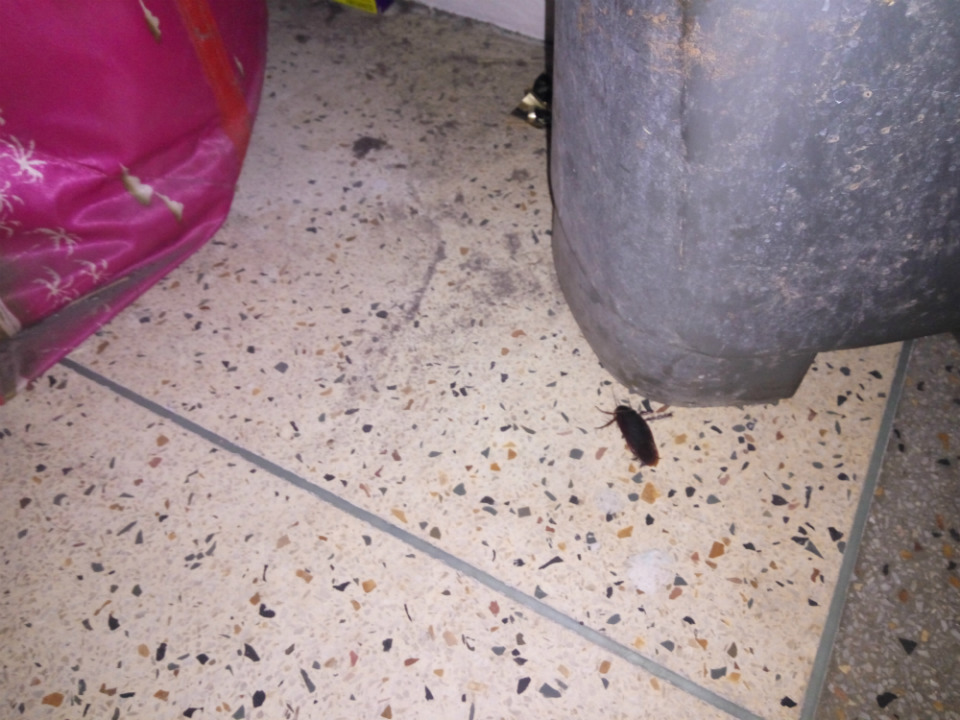cockroach: (544, 384, 703, 480)
